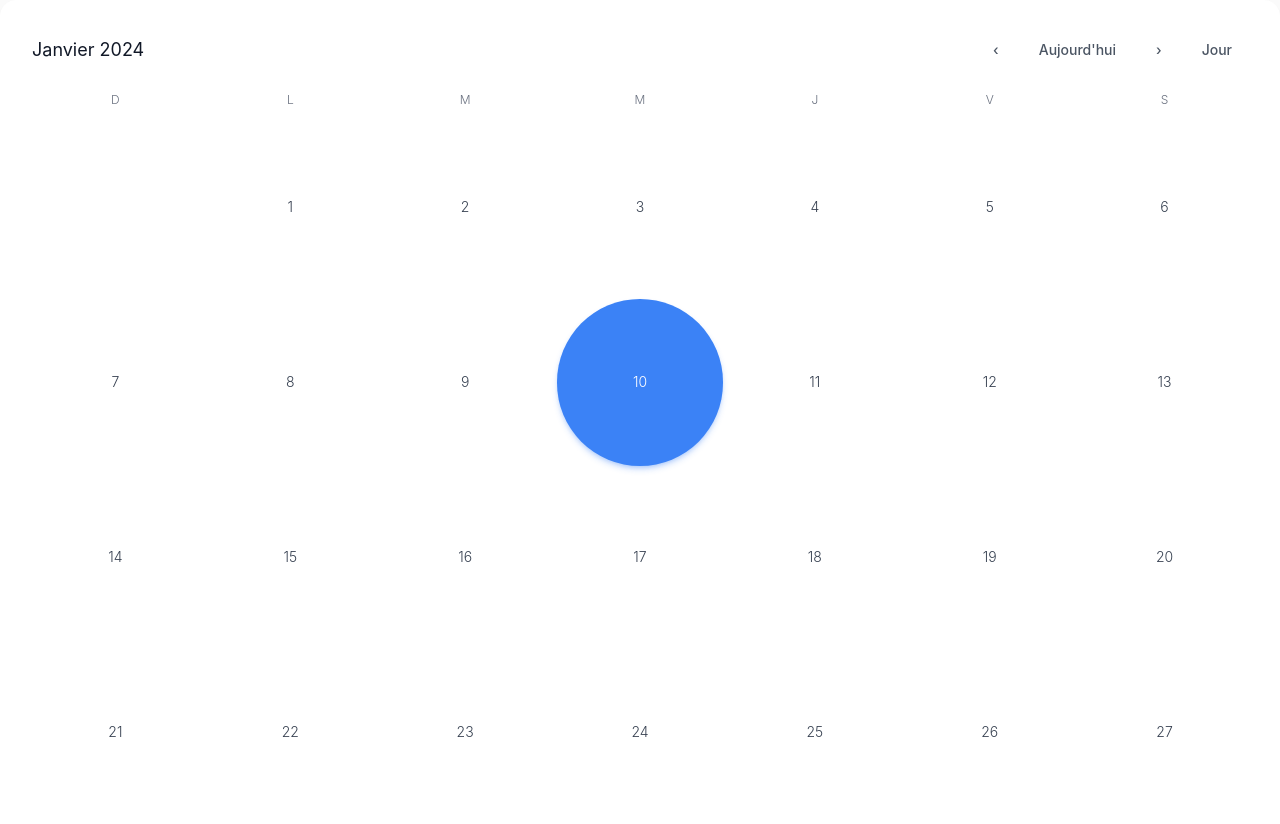
Test: Calendar Component › Month Navigation › navigates to next month
Click the button "›" at (1159, 50), box [1140,32,1178,68]
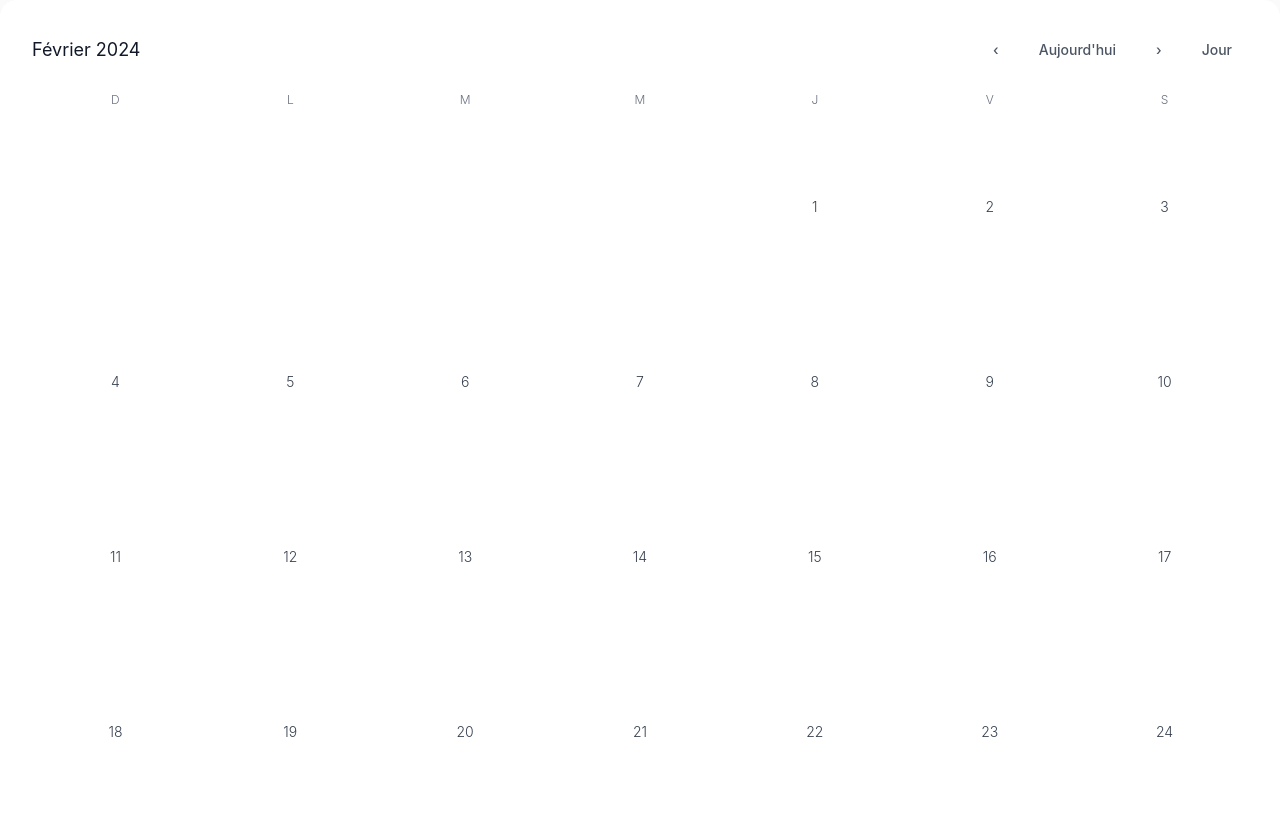
Expected: the heading "Février 2024" is shown, [32,36,140,64]
